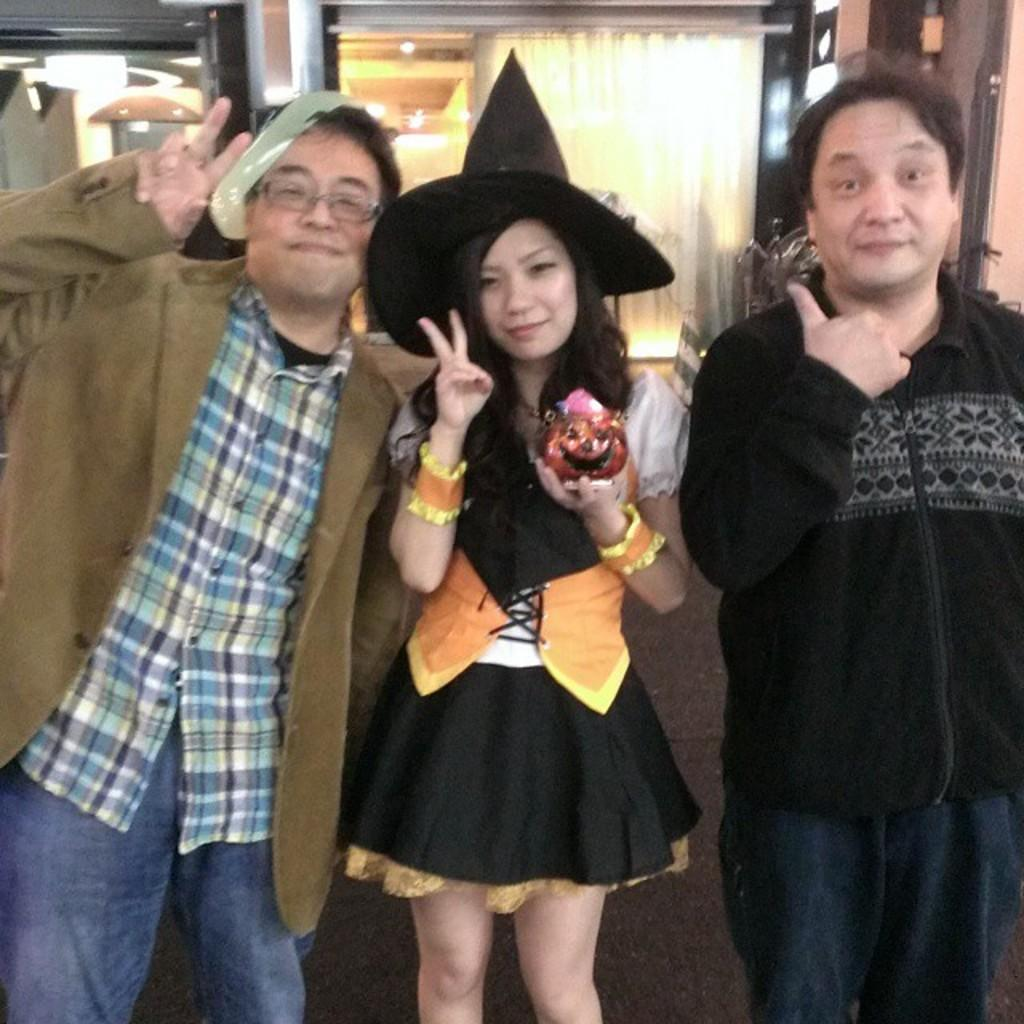Hat: (366, 47, 681, 359)
